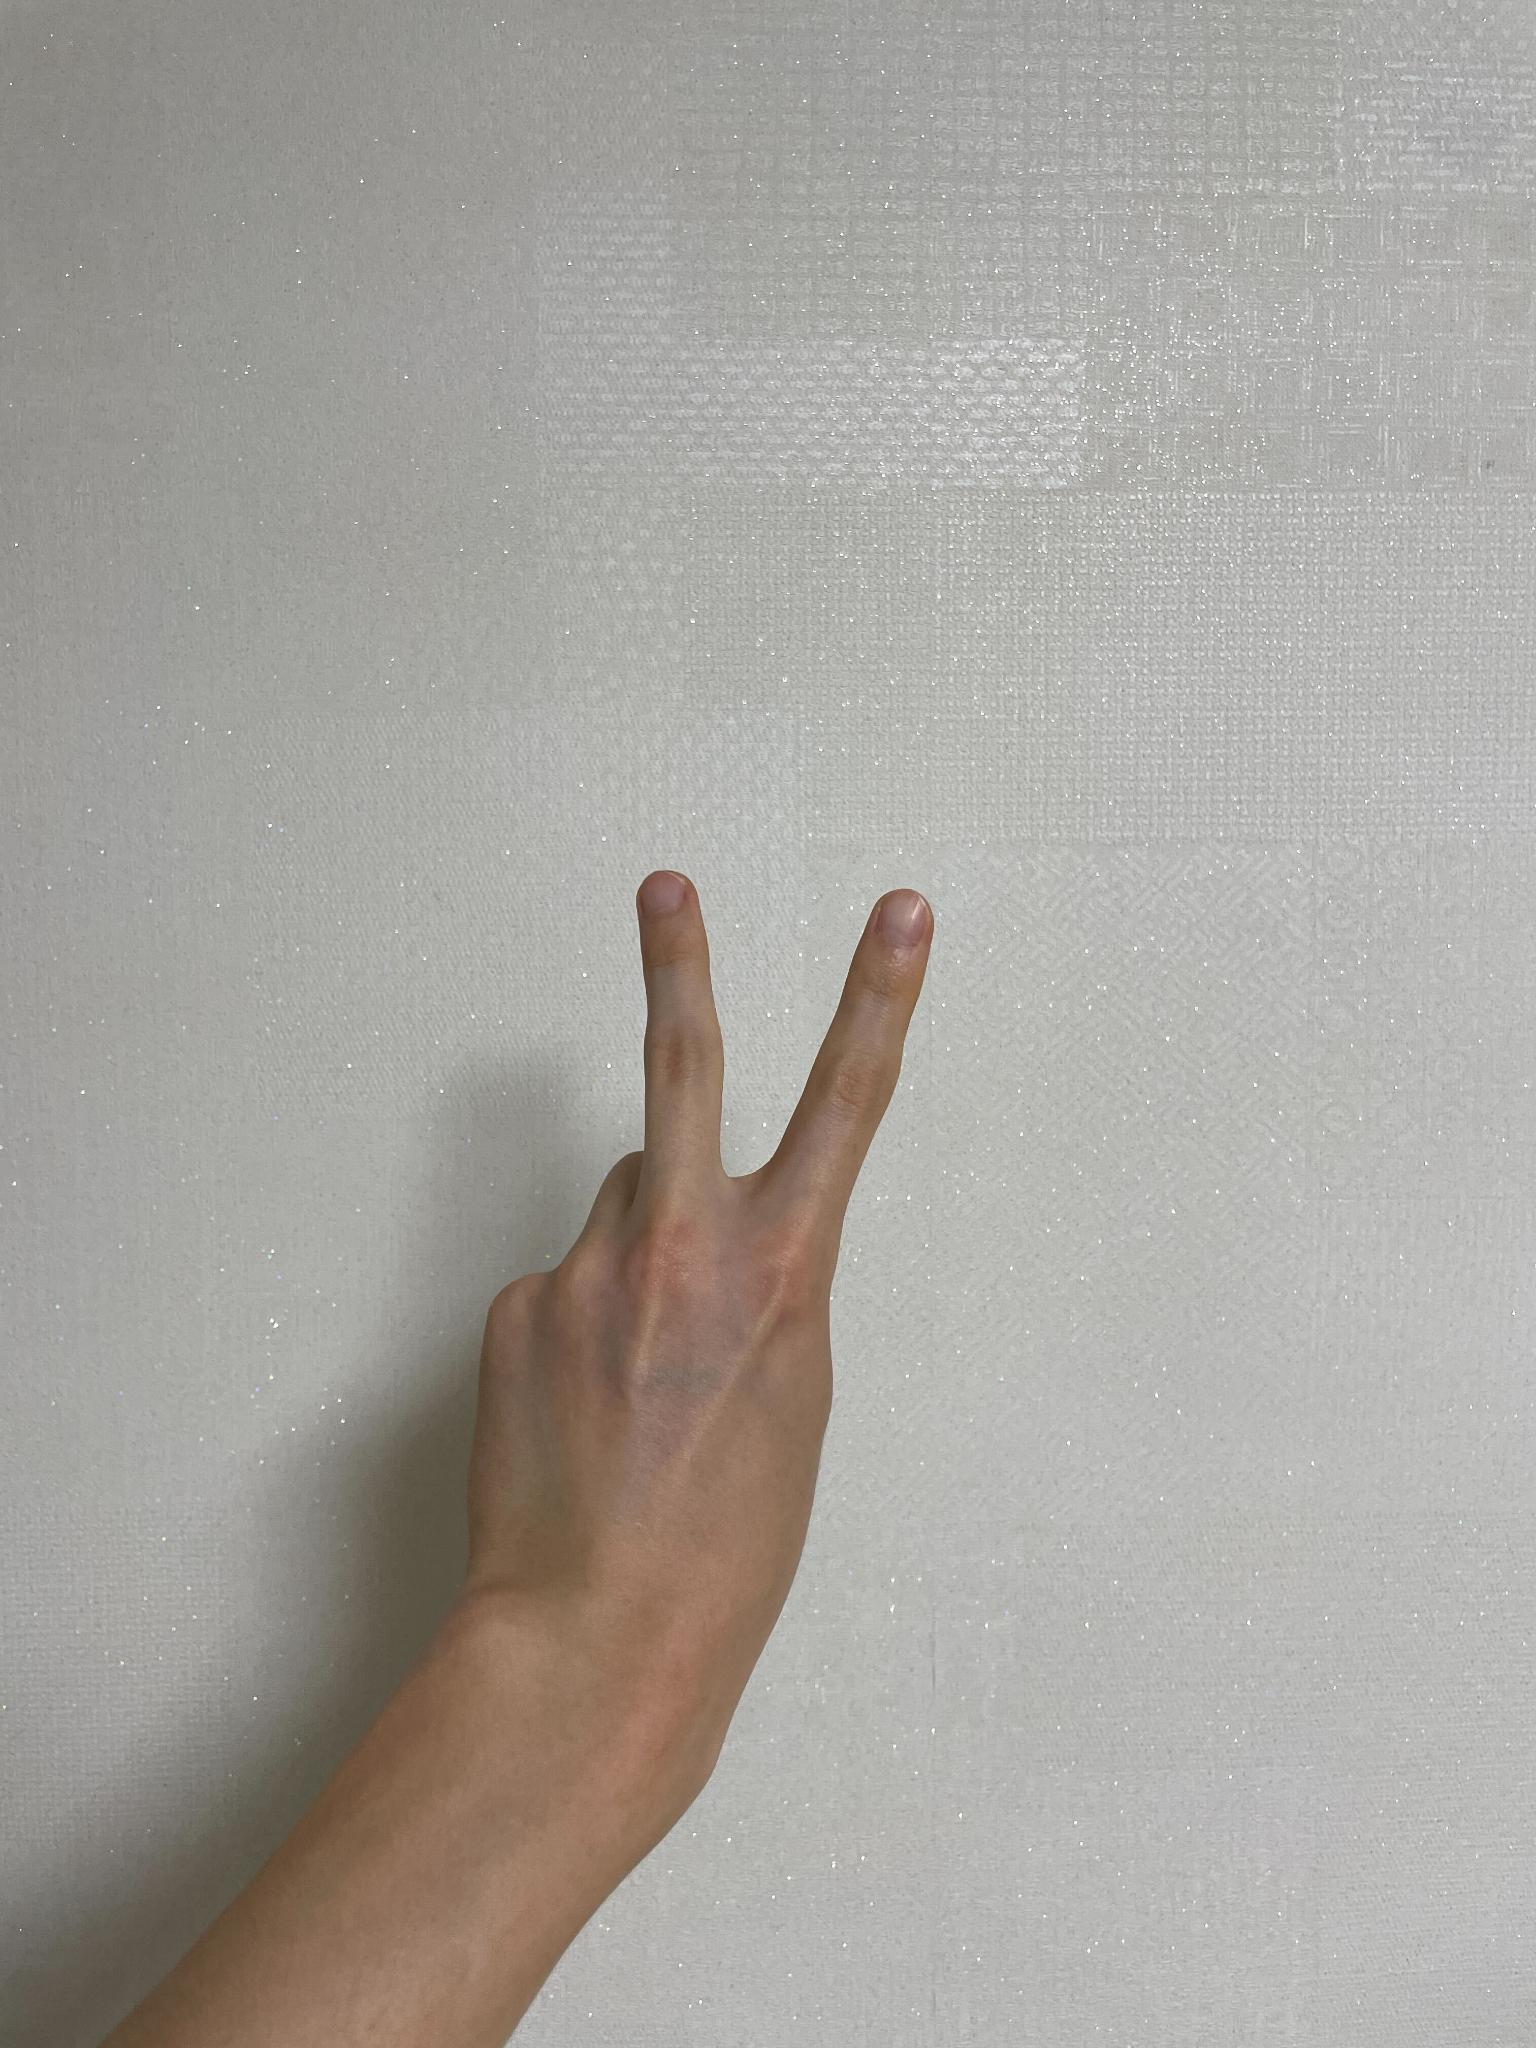v: (432, 858, 940, 1760)
